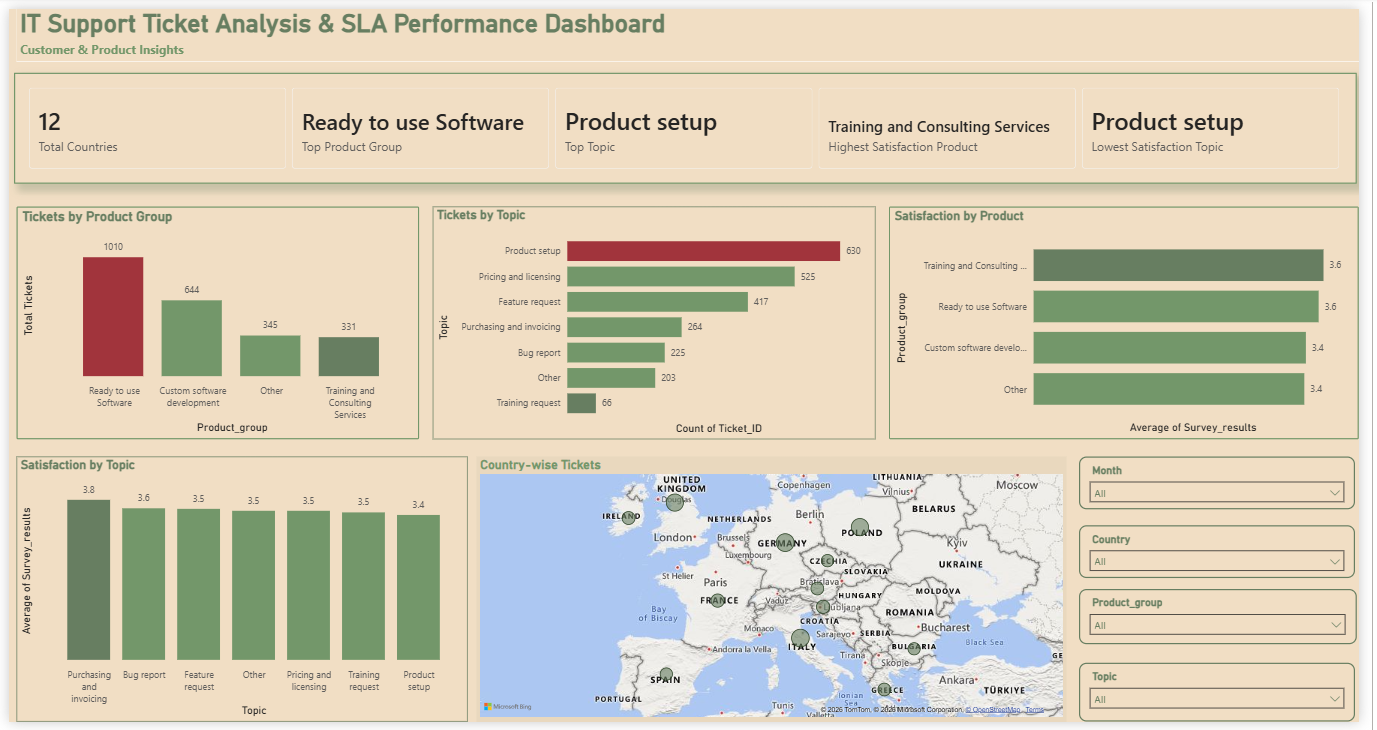

What the dashboard file says about the page in this screenshot:
{"tool":"powerbi","page":{"name":"Customer & Product Insights","canvas":[1800,950],"ordinal":3},"visuals":[{"type":"textbox","title":"IT Support Ticket Analysis & SLA Performance Dashboard","box":[9.8,0,1790.5,70.3],"z":0},{"type":"cardVisual","fields":{"Data":["Measures (2).Total Countries","Measures (2).Top Product Group","Measures (2).Top Topic","Measures (2).Highest Satisfaction Product","Measures (2).Lowest Satisfaction Topic"]},"box":[6.7,85,1790,148.3],"z":1000},{"type":"columnChart","title":"Tickets by Product Group","fields":{"Category":["Technical_support_dataset.Product_group"],"Y":["CountNonNull(Technical_support_dataset.Ticket_ID)"]},"box":[10,263.3,536.7,310],"z":2000},{"type":"clusteredBarChart","title":"Satisfaction by Product","fields":{"Y":["Avg(Technical_support_dataset.Survey_results)"],"Category":["Technical_support_dataset.Product_group"]},"box":[1173.3,263.3,626.7,310],"z":3000},{"type":"columnChart","title":"Satisfaction by Topic","fields":{"Category":["Technical_support_dataset.Topic"],"Y":["Avg(Technical_support_dataset.Survey_results)"]},"box":[10,596.7,601.7,353.3],"z":4000},{"type":"clusteredBarChart","title":"Tickets by Topic","fields":{"Y":["CountNonNull(Technical_support_dataset.Ticket_ID)"],"Category":["Technical_support_dataset.Topic"]},"box":[565,263.3,590,310],"z":5000},{"type":"slicer","fields":{"Values":["Technical_support_dataset.Month"]},"box":[1426.7,596.7,368.3,70],"z":6000},{"type":"slicer","fields":{"Values":["Technical_support_dataset.Country"]},"box":[1426.7,688.3,368.3,70],"z":7000},{"type":"slicer","fields":{"Values":["Technical_support_dataset.Product_group"]},"box":[1426.7,773.3,370,73.3],"z":8000},{"type":"slicer","fields":{"Values":["Technical_support_dataset.Topic"]},"box":[1426.7,871.7,368.3,78.3],"z":9000},{"type":"map","title":"Country-wise Tickets","fields":{"Category":["Technical_support_dataset.Country"],"Size":["Count(Technical_support_dataset.Ticket_ID)"]},"box":[623.3,596.7,786.7,353.3],"z":10000}]}

Visuals, with their boxes in screenshot pixels (x1, y1, x2, y2), scaled from the page's 1800x950 canvas onto the 1377x730 screenshot:
"IT Support Ticket Analysis & SLA Performance Dashboard" textbox: (7,0,1376,54)
cardVisual - Measures (2).Total Countries x Measures (2).Top Product Group: (5,65,1374,179)
"Tickets by Product Group" columnChart: (8,202,418,441)
"Satisfaction by Product" clusteredBarChart: (898,202,1376,441)
"Satisfaction by Topic" columnChart: (8,459,468,729)
"Tickets by Topic" clusteredBarChart: (432,202,884,441)
slicer - Technical_support_dataset.Month: (1091,459,1373,512)
slicer - Technical_support_dataset.Country: (1091,529,1373,583)
slicer - Technical_support_dataset.Product_group: (1091,594,1374,651)
slicer - Technical_support_dataset.Topic: (1091,670,1373,729)
"Country-wise Tickets" map: (477,459,1079,729)
